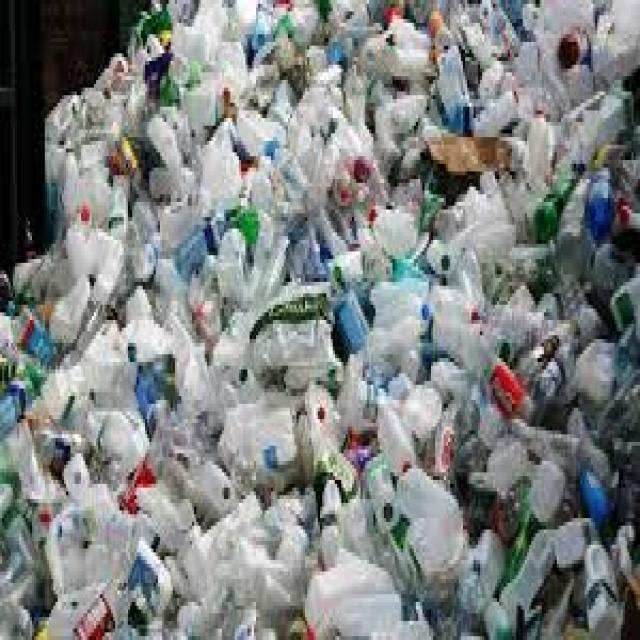heap: (114, 20, 617, 640)
